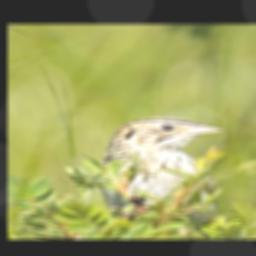Sparrow: (86, 116, 223, 231)
